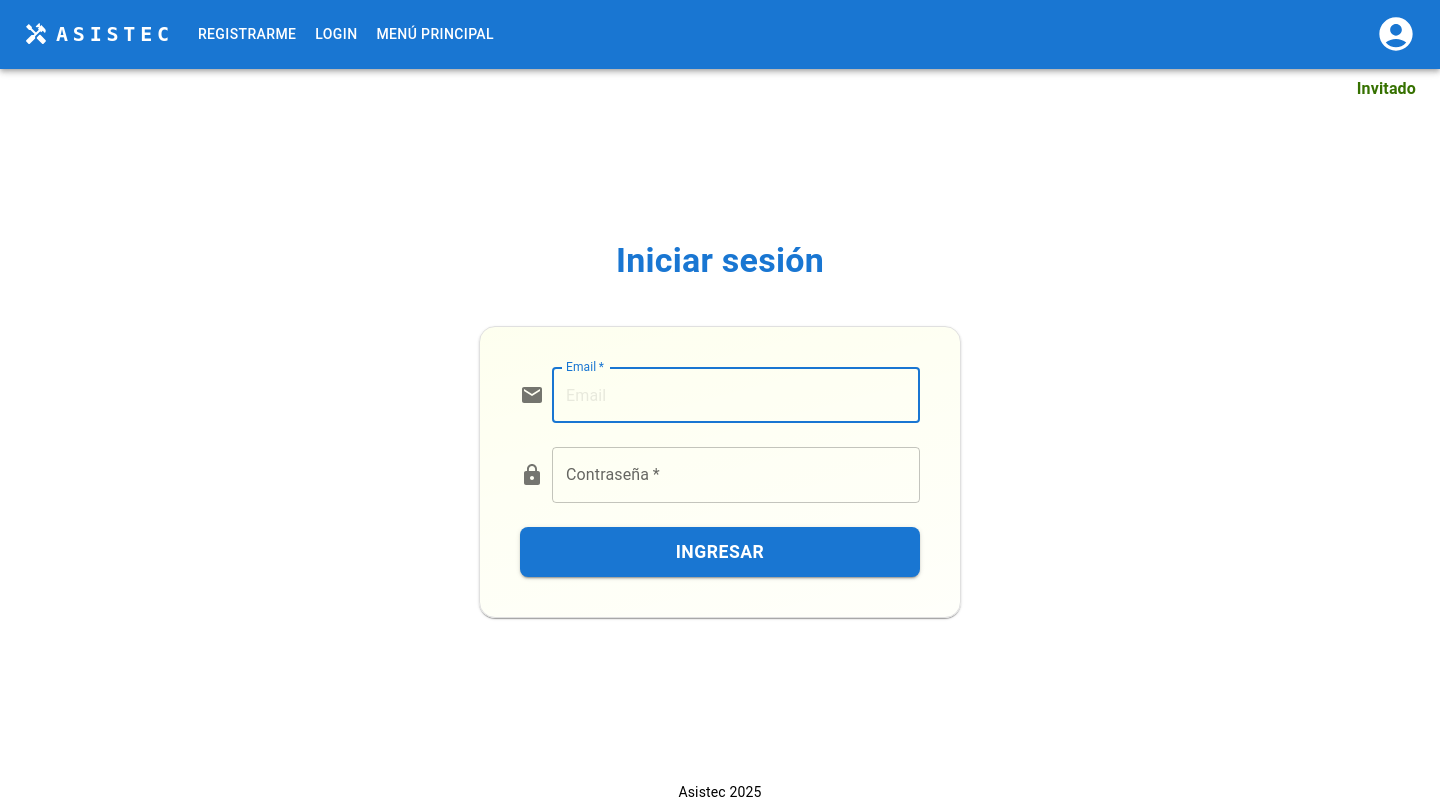
Test: Login › muestra error si las credenciales son inválidas
Type "bad@example.com" into the field labelled "Email *".
click(736, 395); type("bad@example.com")  # box [552,367,920,423]
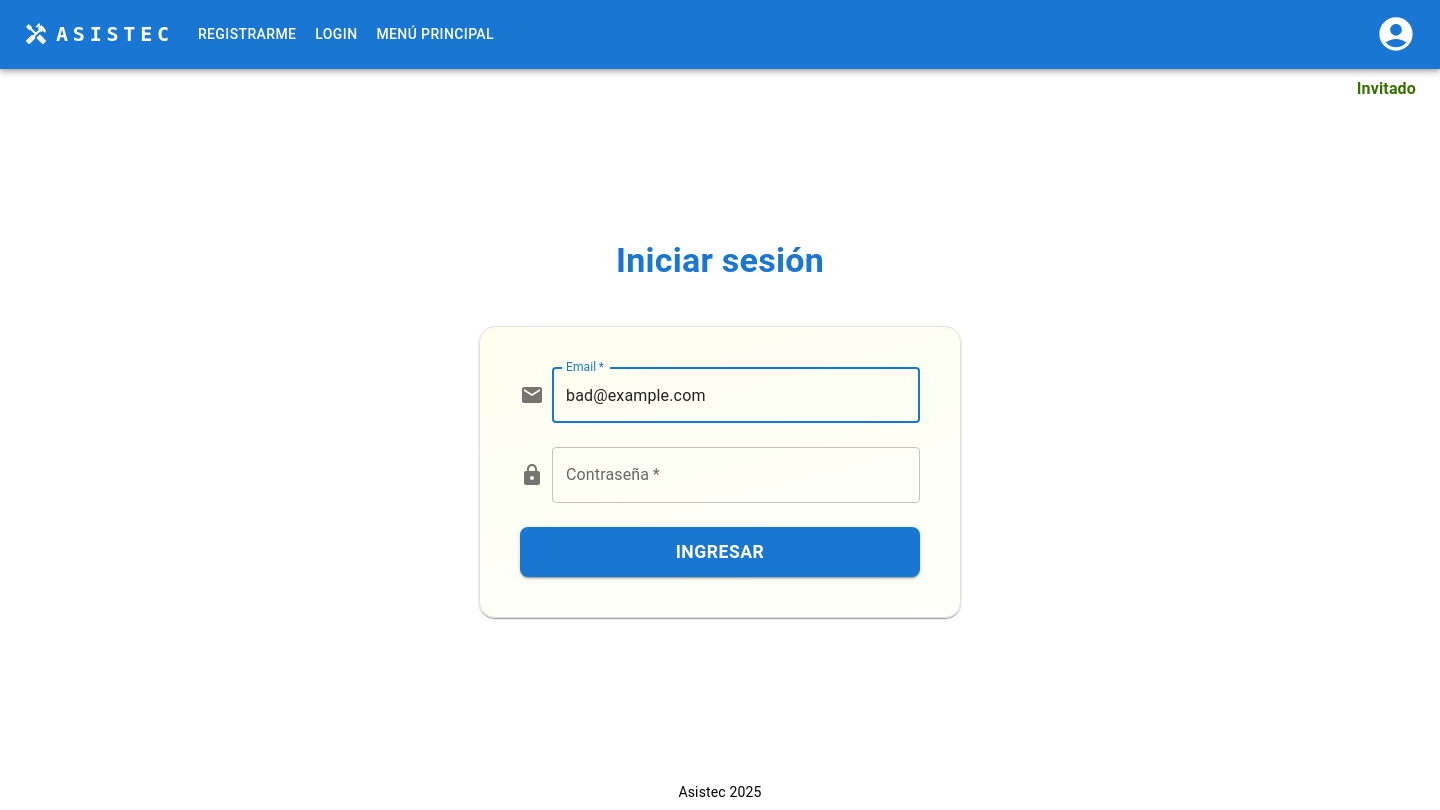
Type "badpass" into the password field labelled "Contraseña *".
click(736, 475); type("badpass")  # box [552,447,920,503]
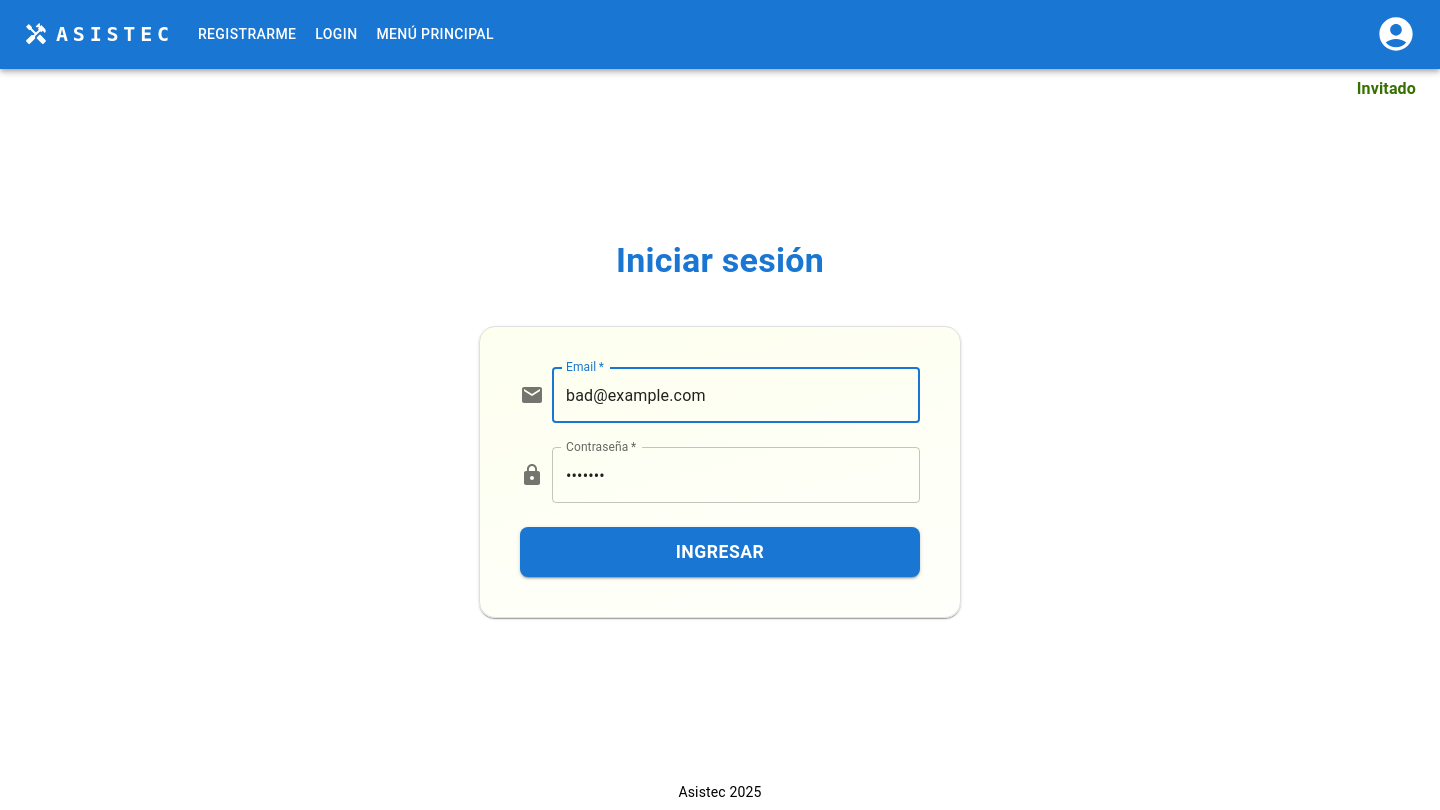
Click the button "Ingresar".
click(720, 552)  # box [520,527,920,577]
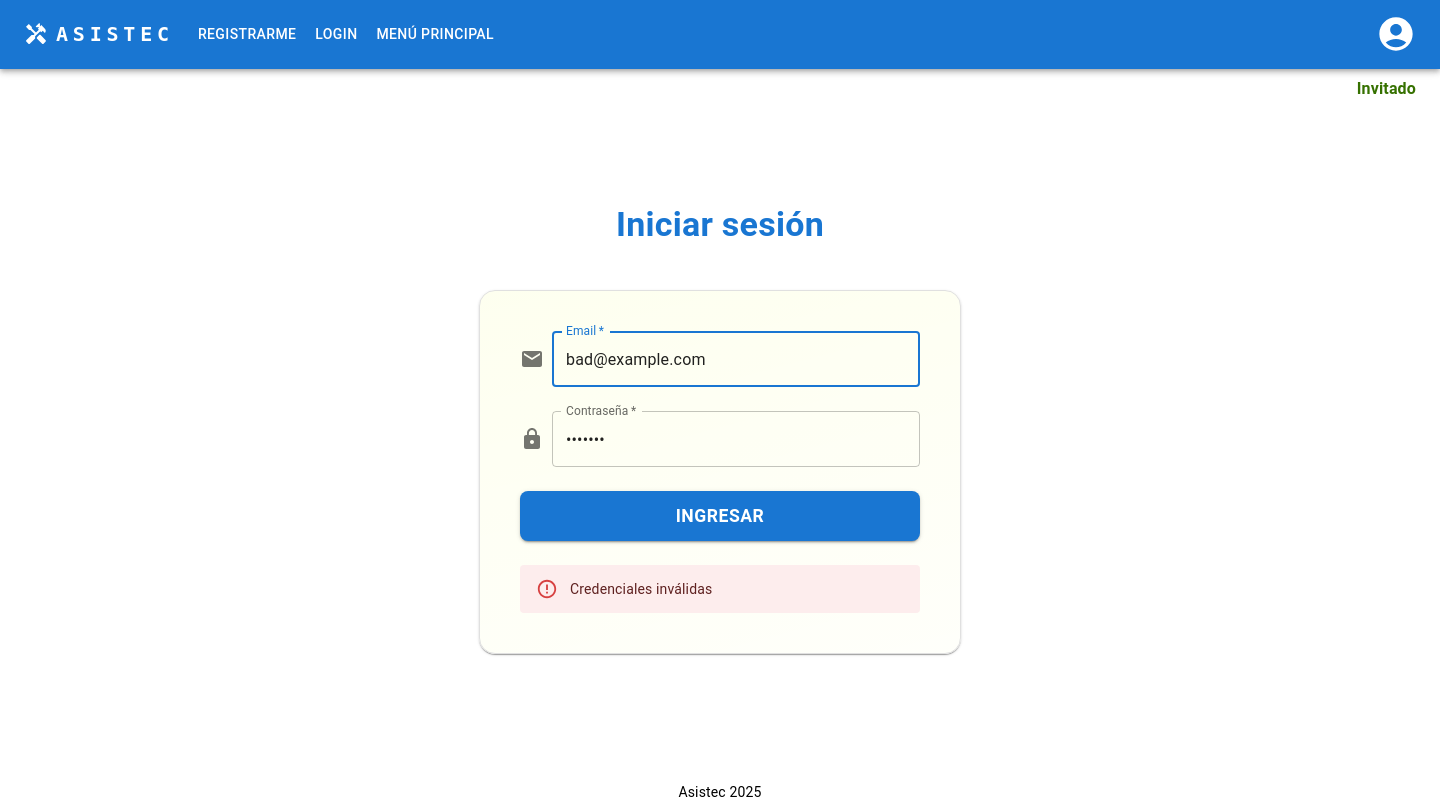
expect the text "Credenciales inválidas" is shown: met, box [570,581,712,597]
